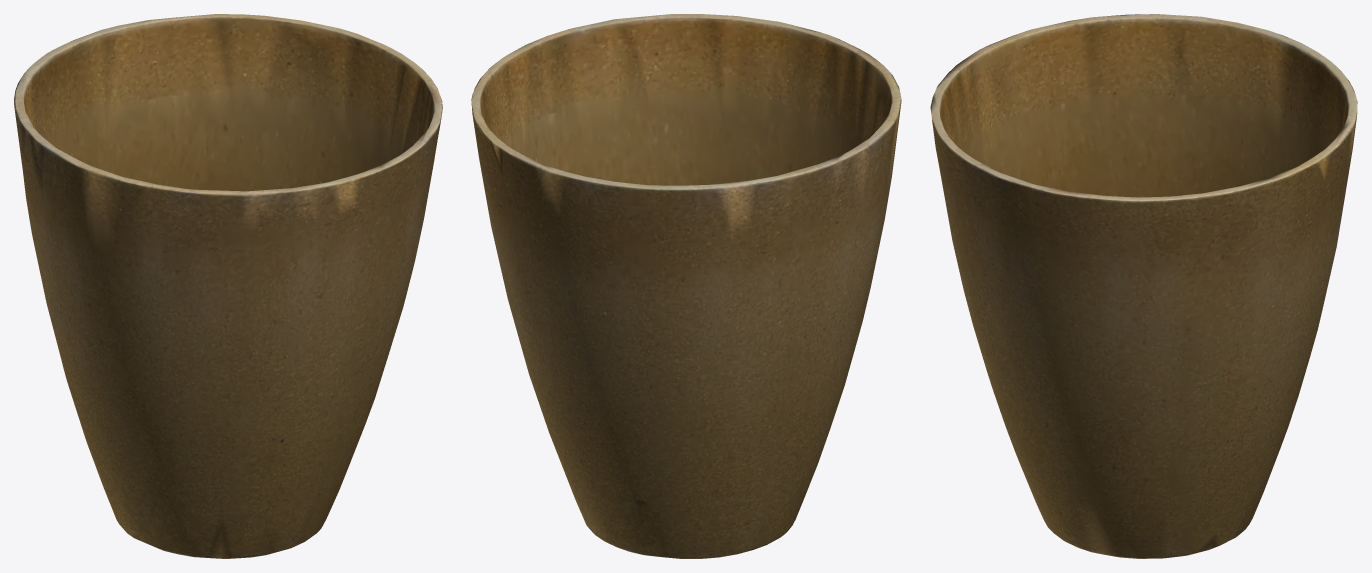
Rendered from urn.glb.
3 views of the same model, side by side, from view 1: azimuth 30°, elevation 25°; view 2: azimuth 150°, elevation 25°; view 3: azimuth 270°, elevation 25° (orthographic).
Parts seen in each view (by area): view 1: Ecoforms_Plant_Container_URN_NAT; view 2: Ecoforms_Plant_Container_URN_NAT; view 3: Ecoforms_Plant_Container_URN_NAT.
Boxes of the visible parts, left/top/right/bottom form: Ecoforms_Plant_Container_URN_NAT: left=14, top=14, right=442, bottom=558; Ecoforms_Plant_Container_URN_NAT: left=471, top=14, right=901, bottom=558; Ecoforms_Plant_Container_URN_NAT: left=930, top=14, right=1357, bottom=558.
Bounding box in the file's own units: 0.1489 × 0.1599 × 0.1488.
Materials: 1 (1 with a texture image).
